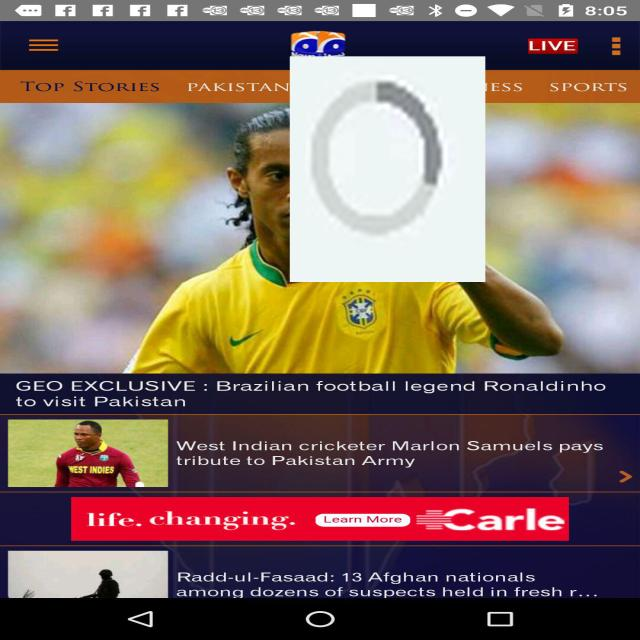misdirection: (290, 56, 485, 282)
